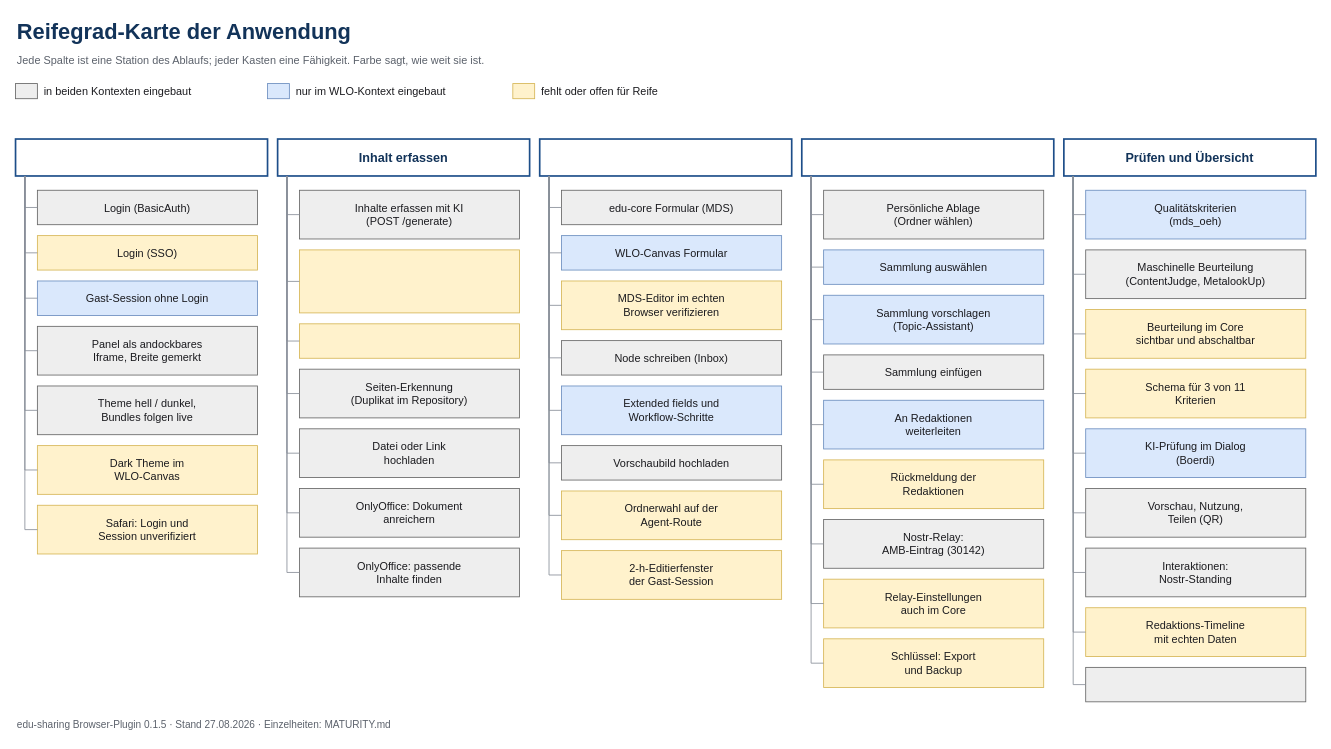
This 1331x749 diagram has some shape labels left out. The shapes that lost their labels are listed below. From the top down, each one's centre as x and y in pixels, then its label:
At (141,157): "Zugang und Panel".
At (665,157): "Beschreiben und Speichern".
At (927,157): "Einsortieren und Weitergeben".
At (409,281): "B-API: öffentlicher Endpunkt statt gepinnter Proxy-Adresse".
At (409,340): "Metadaten ohne KI".
At (1195,684): "Verlauf (lokal)".
